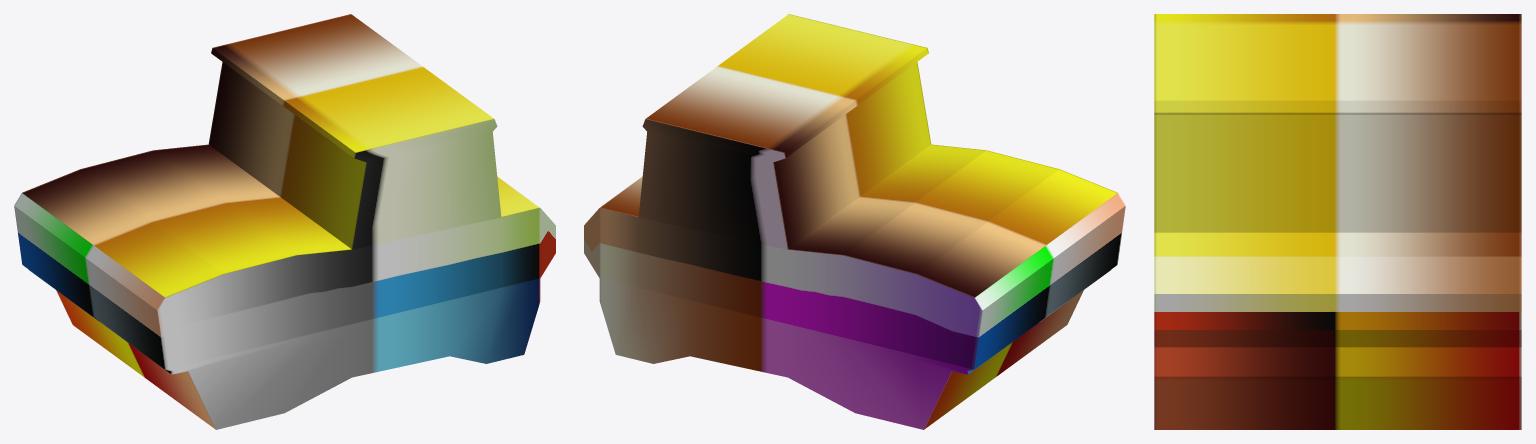
File: tractor.glb
3 renders of one model, left to right at view 1: azimuth 30°, elevation 25°; view 2: azimuth 150°, elevation 25°; view 3: azimuth 270°, elevation 25°, orthographic. The views are drawn at different scales.
Visible parts, largest first — view 1: Cube; view 2: Cube; view 3: Cube.
Boxes of the visible parts, x1,y1,x2,y2 form: Cube: (14, 14, 555, 429); Cube: (584, 14, 1125, 429); Cube: (1154, 14, 1521, 429).
Bounding box in the file's own units: 7.56 × 4.41 × 4.72.
1 material, 1 textured.
